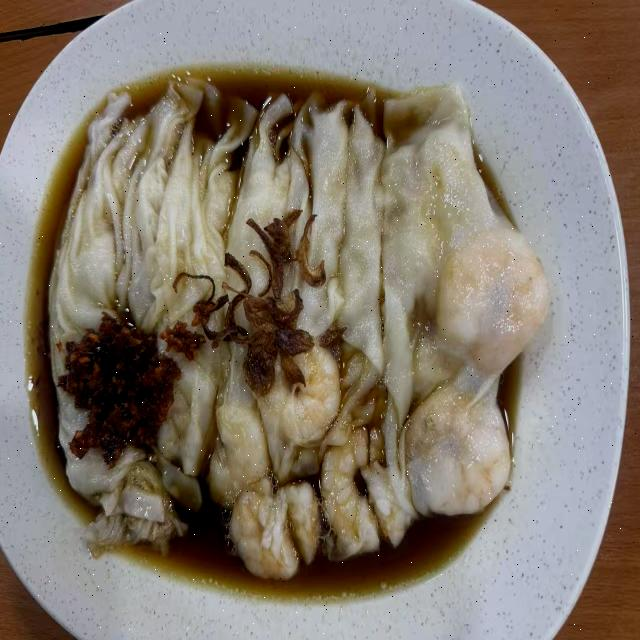Chee Cheong Fun: (16, 47, 569, 579)
